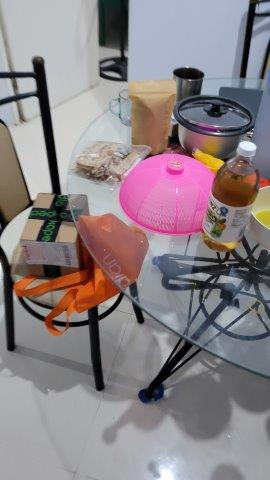plastik: (75, 137, 154, 184)
